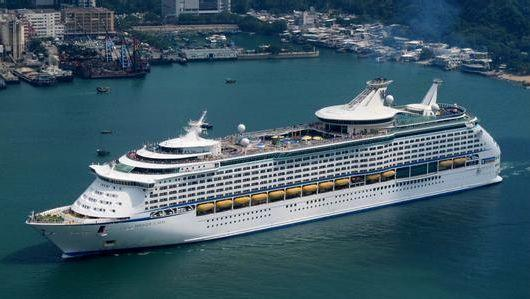Ship: (22, 90, 518, 263)
